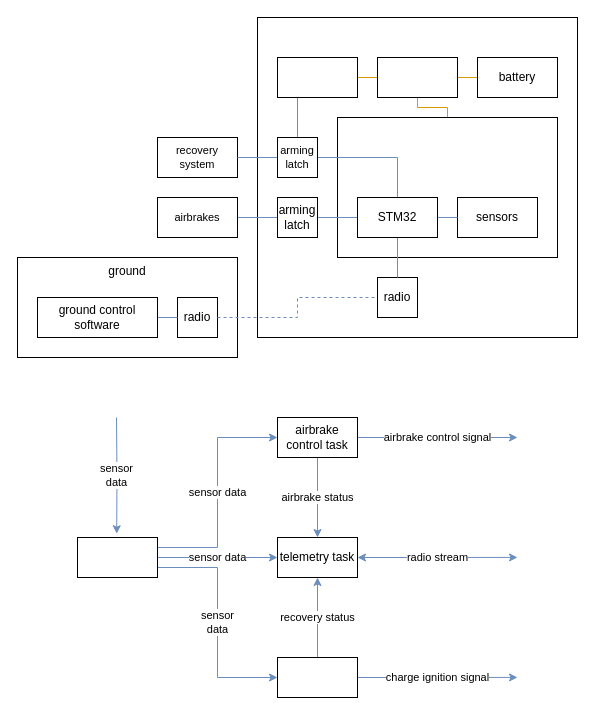
Some shapes in this 595 by 715 pixel diagram are drawn without their labels. Here are the shapes that lost their labels. From the top down, the box of each, then its label:
(276, 56, 358, 98): COTS flight computer
(376, 56, 458, 98): power management
(256, 16, 578, 338): avionics bay
(336, 116, 558, 258): SRAD flight computer
(76, 536, 158, 578): sensor control task
(276, 656, 358, 698): recovery control task
